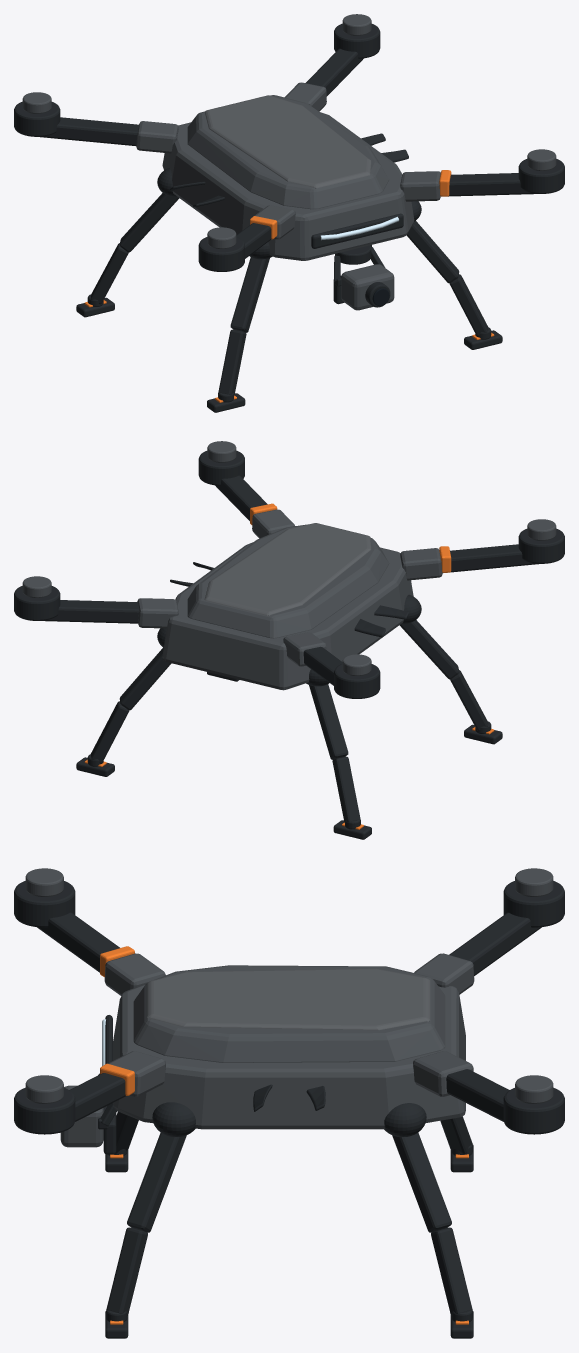
File: DroneFlight.fbx
3 renders of one model, top to bottom at view 1: azimuth 30°, elevation 25°; view 2: azimuth 150°, elevation 25°; view 3: azimuth 270°, elevation 25°, orthographic. The views are drawn at different scales.
Visible parts, largest first — view 1: Airframe, LandingGear_FR, LandingGear_FL, LandingGear_RR, CameraBody, RotorHub_FR, RotorHub_FL, RotorHub_RR, RotorHub_RL, GimbalYaw; view 2: Airframe, LandingGear_RR, LandingGear_RL, LandingGear_FR, RotorHub_RR, RotorHub_RL, RotorHub_FR, RotorHub_FL; view 3: Airframe, LandingGear_FL, LandingGear_RL, RotorHub_FL, RotorHub_RL, RotorHub_FR, RotorHub_RR, LandingGear_RR, CameraBody, LandingGear_FR.
Boxes of the visible parts, x1=… form: Airframe: x1=40, y1=48, x2=536, y2=260; LandingGear_FR: x1=207, y1=256, x2=271, y2=412; LandingGear_FL: x1=406, y1=221, x2=502, y2=349; LandingGear_RR: x1=76, y1=193, x2=179, y2=317; CameraBody: x1=341, y1=264, x2=394, y2=310; RotorHub_FR: x1=198, y1=227, x2=244, y2=271; RotorHub_FL: x1=518, y1=149, x2=564, y2=193; RotorHub_RR: x1=14, y1=92, x2=60, y2=136; RotorHub_RL: x1=334, y1=14, x2=380, y2=58; GimbalYaw: x1=334, y1=245, x2=385, y2=281; Airframe: x1=42, y1=475, x2=538, y2=690; LandingGear_RR: x1=307, y1=683, x2=371, y2=839; LandingGear_RL: x1=76, y1=648, x2=171, y2=776; LandingGear_FR: x1=399, y1=620, x2=502, y2=744; RotorHub_RR: x1=334, y1=654, x2=380, y2=698; RotorHub_RL: x1=14, y1=576, x2=60, y2=620; RotorHub_FR: x1=518, y1=519, x2=564, y2=563; RotorHub_FL: x1=198, y1=441, x2=244, y2=485; Airframe: x1=37, y1=912, x2=541, y2=1136; LandingGear_FL: x1=105, y1=1132, x2=186, y2=1338; LandingGear_RL: x1=392, y1=1132, x2=473, y2=1338; RotorHub_FL: x1=14, y1=1075, x2=75, y2=1134; RotorHub_RL: x1=503, y1=1075, x2=564, y2=1134; RotorHub_FR: x1=14, y1=868, x2=75, y2=927; RotorHub_RR: x1=503, y1=868, x2=564, y2=927; LandingGear_RR: x1=440, y1=1116, x2=473, y2=1172; CameraBody: x1=60, y1=1085, x2=103, y2=1147; LandingGear_FR: x1=105, y1=1111, x2=138, y2=1172.
Size of the model in its own units: 0.574 by 0.307 by 0.574.
